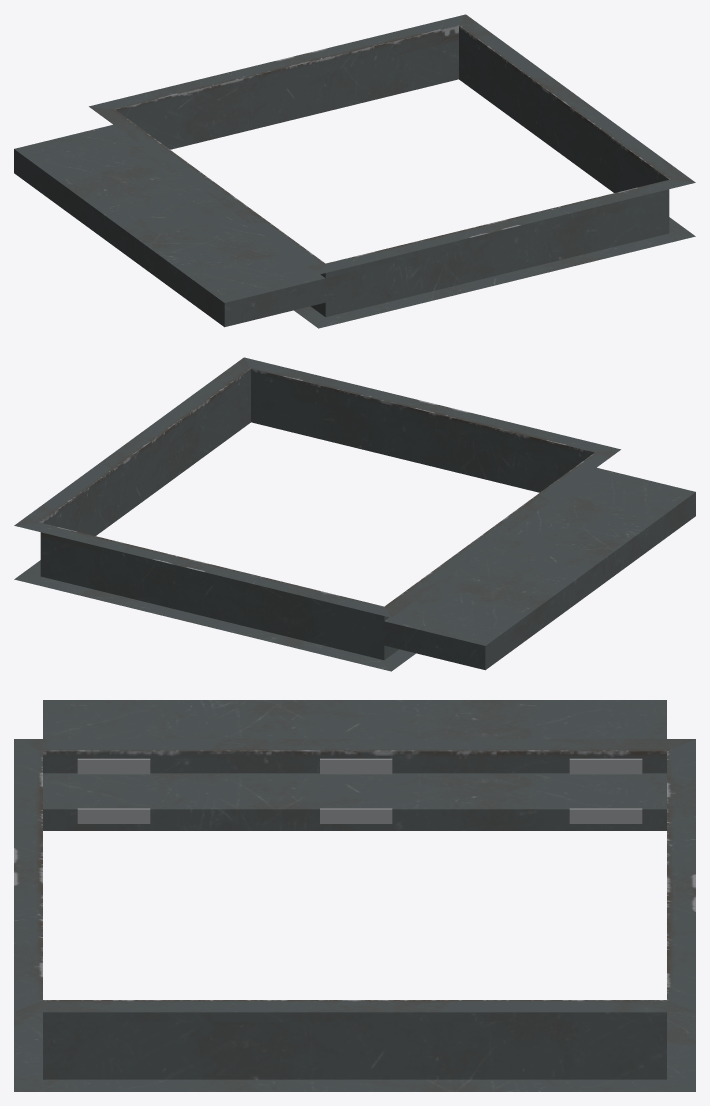
Rendered from SM_GuardTower_LG_Trapdoor_Frame.fbx.
3 renders of one model, top to bottom at view 1: azimuth 30°, elevation 25°; view 2: azimuth 150°, elevation 25°; view 3: azimuth 270°, elevation 25°, orthographic. The views are drawn at different scales.
Parts seen in each view (by area): view 1: SM_GuardTower_LG_Trapdoor_Frame; view 2: SM_GuardTower_LG_Trapdoor_Frame; view 3: SM_GuardTower_LG_Trapdoor_Frame.
Part boxes in pixels (left/top/right/bottom): SM_GuardTower_LG_Trapdoor_Frame: left=14, top=14, right=695, bottom=328; SM_GuardTower_LG_Trapdoor_Frame: left=14, top=357, right=695, bottom=671; SM_GuardTower_LG_Trapdoor_Frame: left=14, top=700, right=695, bottom=1091.
Bounding box in the file's own units: 180 × 155 × 20.
Materials: 1 (1 with a texture image).
